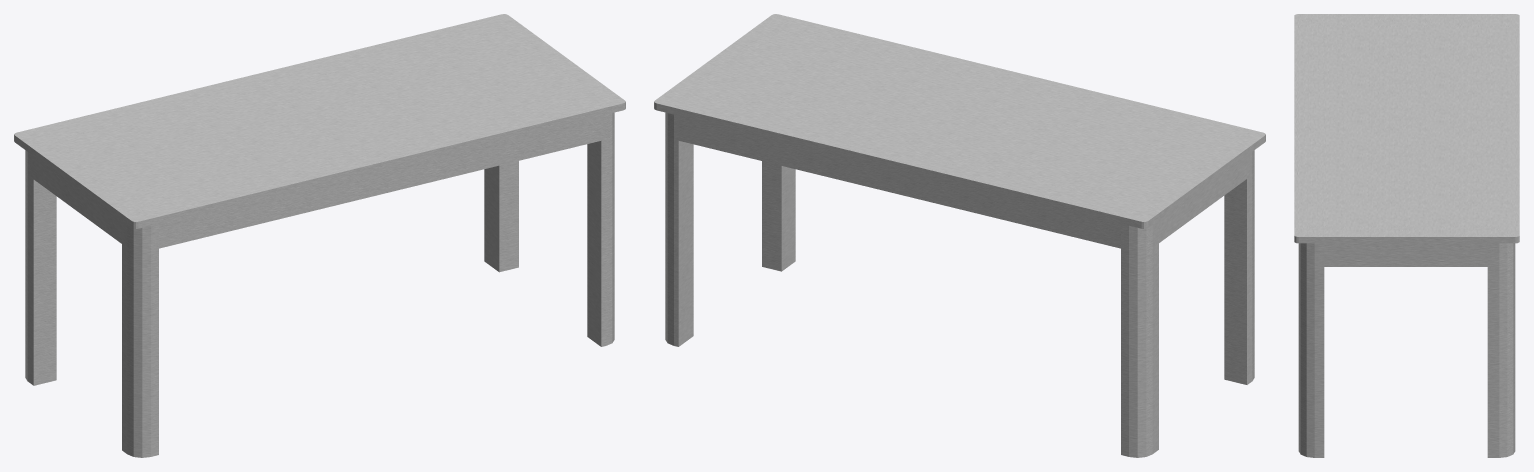
File: IR Desk NEW.fbx
3 views of the same model, side by side, from view 1: azimuth 30°, elevation 25°; view 2: azimuth 150°, elevation 25°; view 3: azimuth 270°, elevation 25° (orthographic). The views are drawn at different scales.
Visible parts, largest first — view 1: IR Desk; view 2: IR Desk; view 3: IR Desk.
Part boxes in pixels (x1,y1,x2,y2): IR Desk: (14,14,625,457); IR Desk: (654,14,1265,457); IR Desk: (1294,14,1519,457).
Bounding box in the file's own units: 197 × 91.93 × 84.33.
